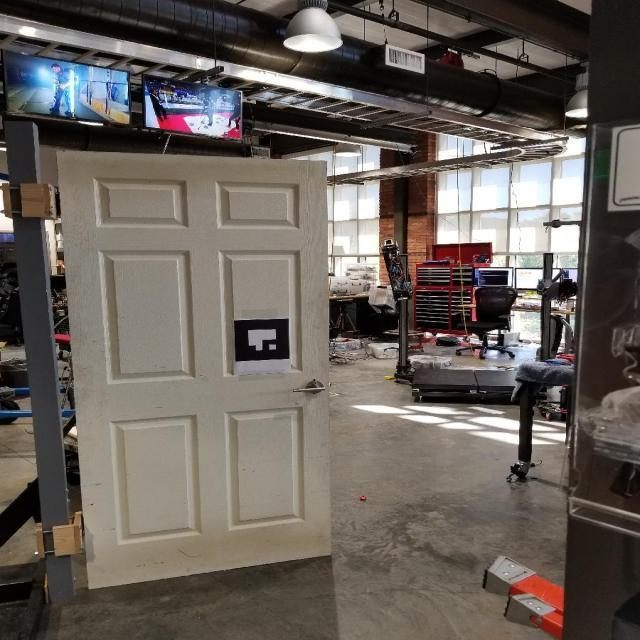door: (52, 148, 335, 590), (288, 378, 332, 401)
